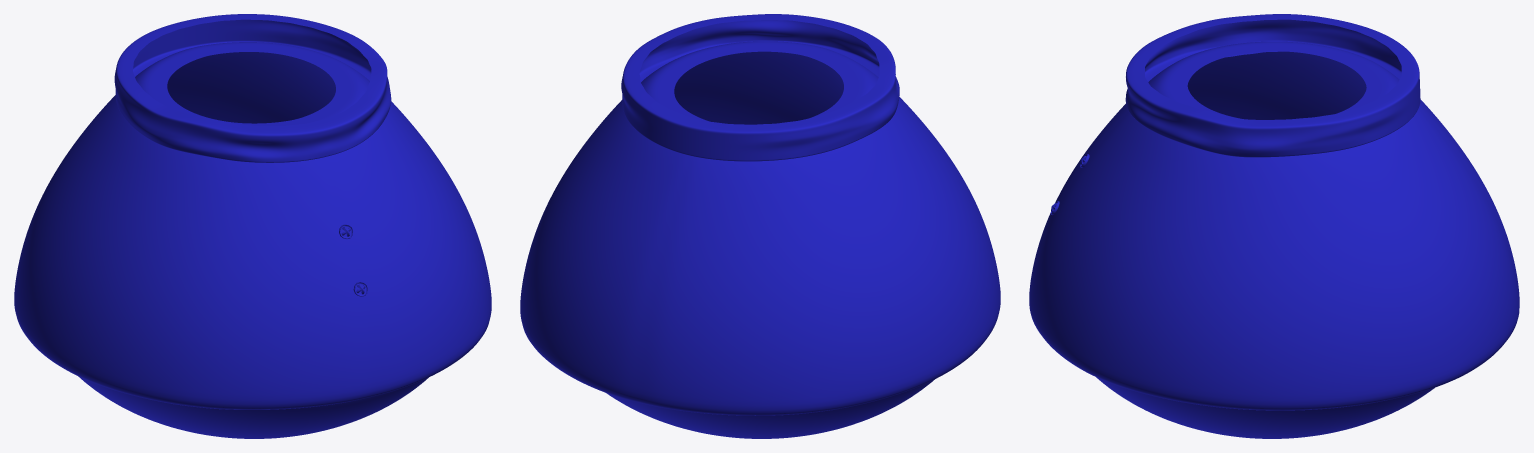
The model's file is SM_ FE_Char_alien_Body.fbx.
3 renders of one model, left to right at view 1: azimuth 30°, elevation 25°; view 2: azimuth 150°, elevation 25°; view 3: azimuth 270°, elevation 25°, orthographic.
Parts seen in each view (by area): view 1: body; view 2: body; view 3: body.
Boxes of the visible parts, x1=… form: body: x1=14, y1=14, x2=491, y2=438; body: x1=520, y1=14, x2=1000, y2=438; body: x1=1029, y1=14, x2=1519, y2=438.
Size of the model in its own units: 82.49 by 64.87 by 84.82.
